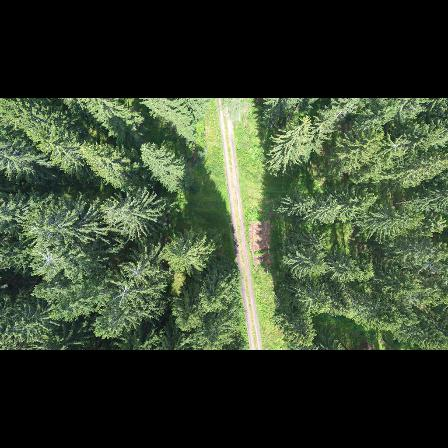Sick: (107, 274, 137, 308), (35, 244, 64, 274), (122, 257, 149, 286)
